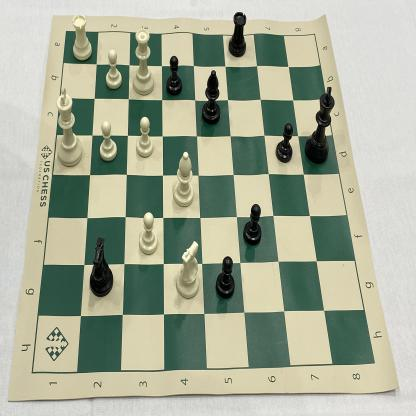black-bishop: (169, 147, 196, 209), (199, 68, 224, 129)
black-king: (303, 84, 338, 167)
black-knight: (87, 230, 116, 301)
black-pawn: (241, 201, 265, 249), (215, 250, 236, 304), (275, 117, 296, 168), (163, 51, 185, 98)
black-rook: (227, 7, 250, 61)
white-king: (51, 85, 83, 169)
white-knight: (172, 236, 202, 303)
white-pawn: (136, 211, 161, 260), (95, 118, 120, 166), (101, 46, 126, 93), (134, 113, 155, 159)
white-queen: (131, 21, 158, 99)
white-rook: (69, 10, 95, 65)
